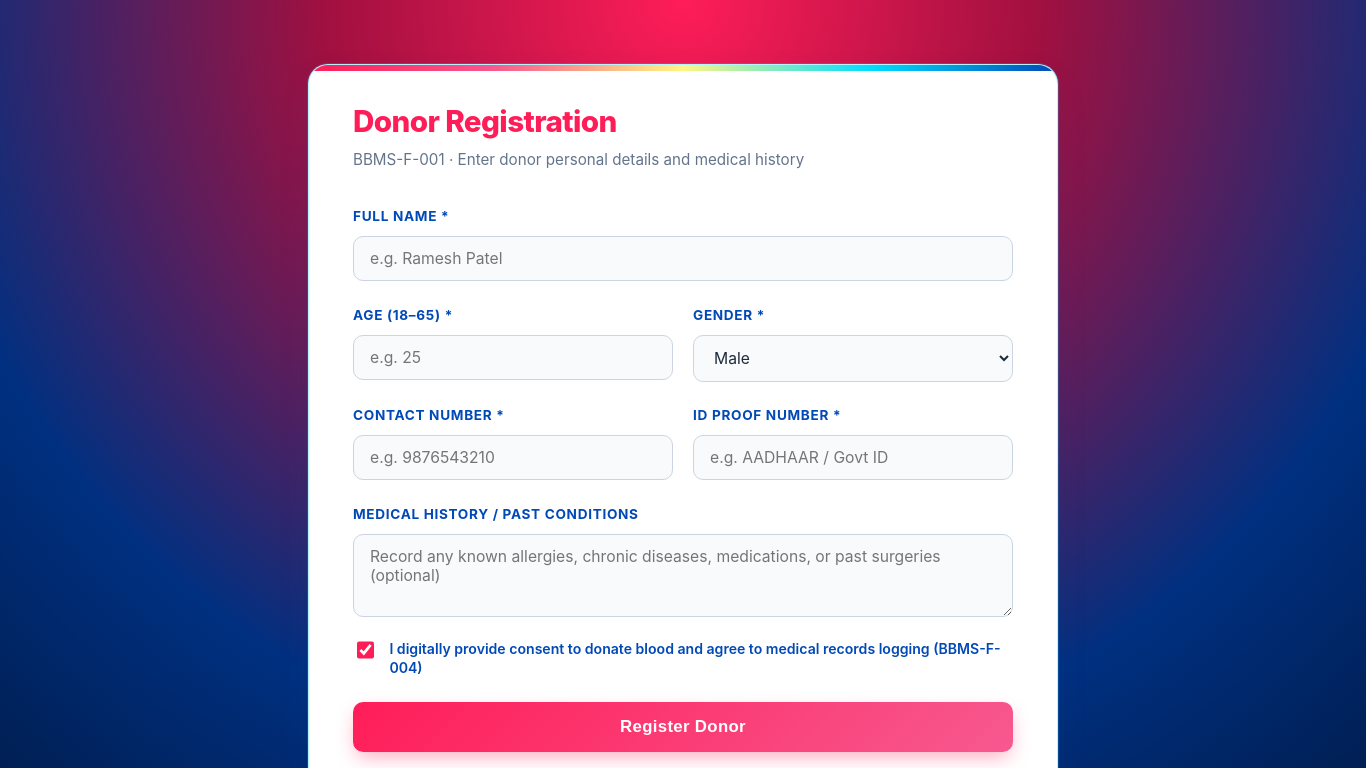
Test case: TC-Reg-01, TC-Reg-03 & TC-Reg-04: DonorRegistrationForm (client) › validates age boundaries (rejects < 18 or > 65)
Step 1. Type "16" into the number field labelled "Age (18–65) *" → (513, 357), box 353,335 -> 673,380
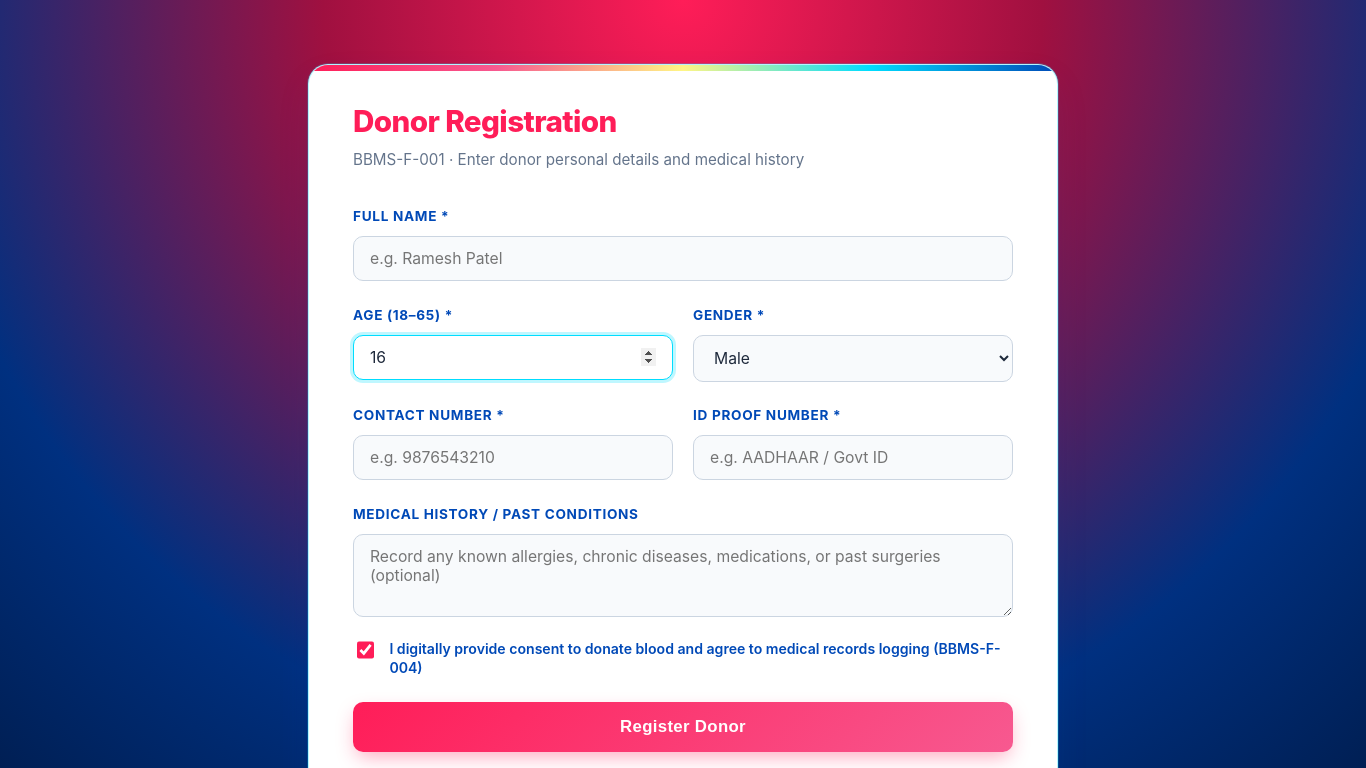
Step 2. Click the button "Register Donor" → (683, 727), box 353,702 -> 1013,752
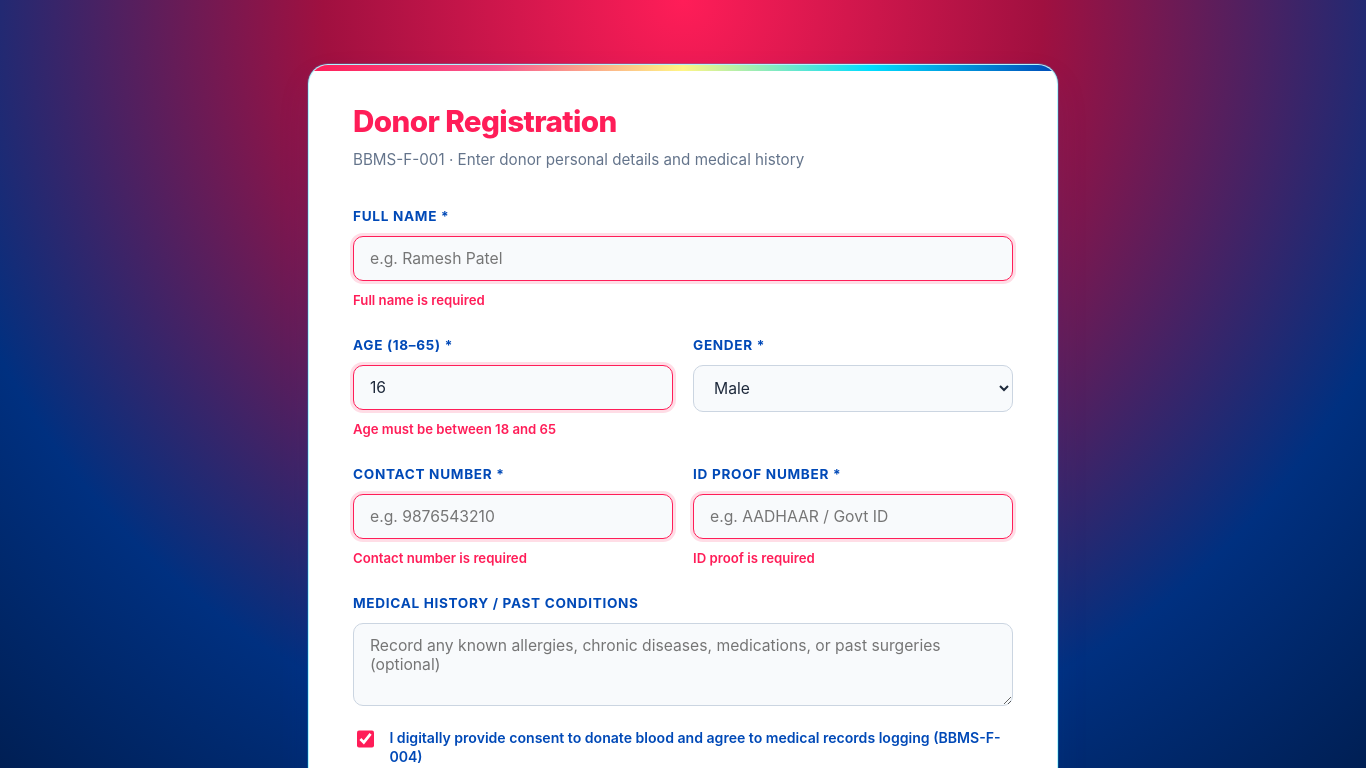
Expected: the text with test id "error-age" reads "Age must be between 18 and 65", 353,421 -> 556,437
